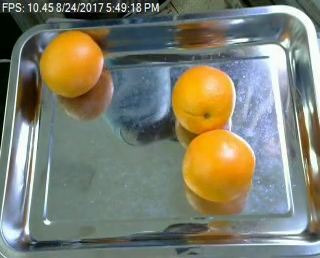Orange: (181, 129, 256, 203), (170, 65, 236, 135), (39, 30, 105, 99)
